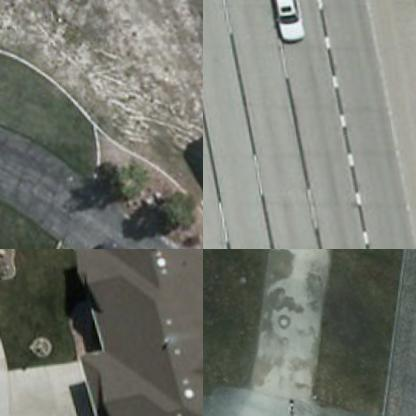car: (265, 0, 305, 43)
